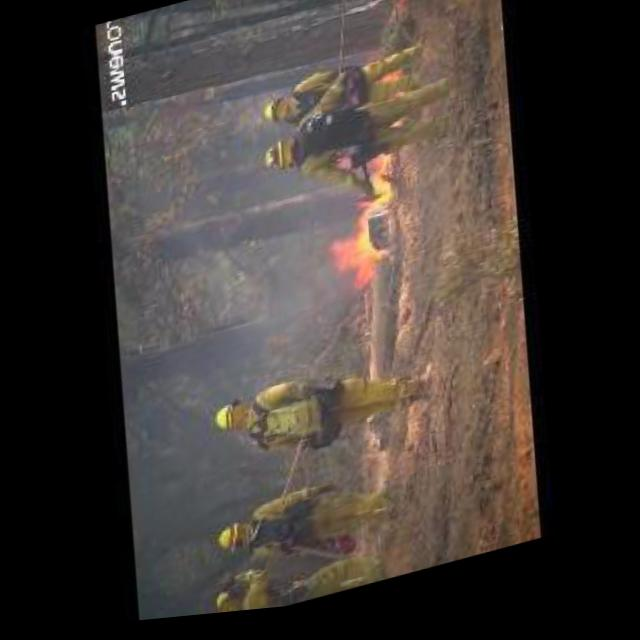Fire: (317, 166, 420, 311), (381, 81, 400, 92)
